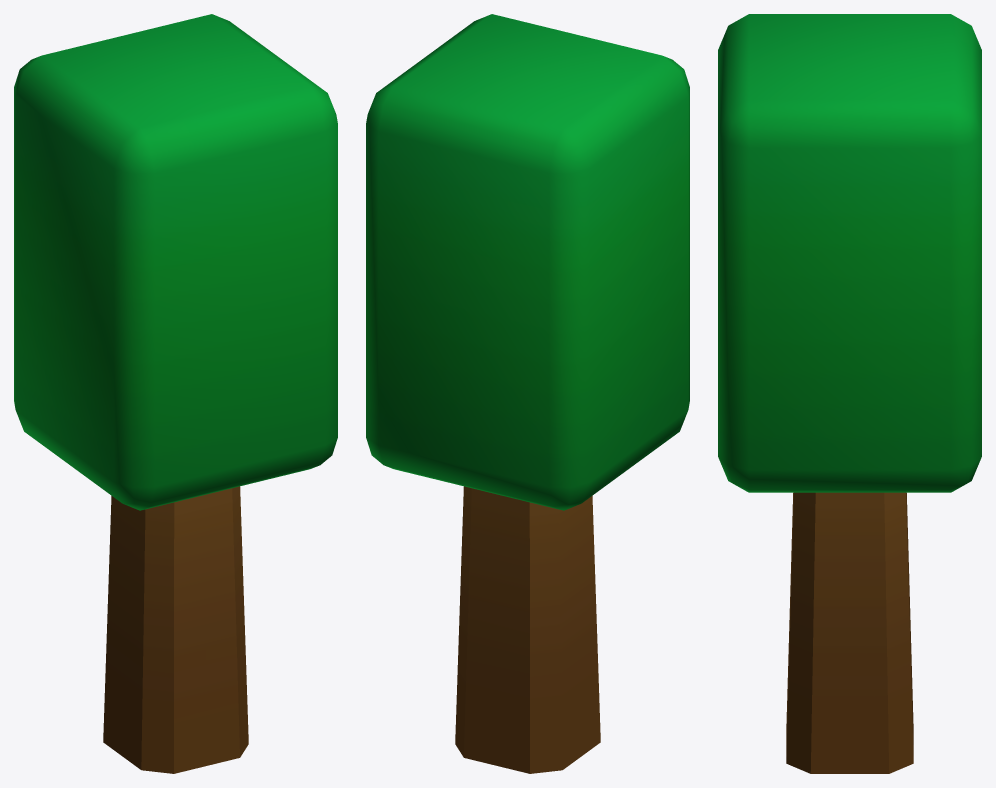
Rendered from Tree_F_3_.fbx.
3 renders of one model, left to right at view 1: azimuth 30°, elevation 25°; view 2: azimuth 150°, elevation 25°; view 3: azimuth 270°, elevation 25°, orthographic. The views are drawn at different scales.
Visible parts, largest first — view 1: Tree_F_3; view 2: Tree_F_3; view 3: Tree_F_3.
Part boxes in pixels (box(x1,y1,x2,y2)): Tree_F_3: box(14, 14, 337, 773); Tree_F_3: box(366, 14, 689, 773); Tree_F_3: box(718, 14, 981, 773).
Bounding box in the file's own units: 121 × 348 × 121.
